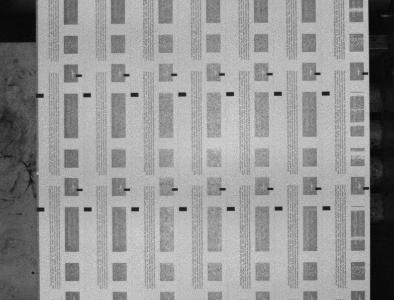qblock: (36, 93, 44, 98), (37, 207, 45, 212), (131, 92, 139, 97), (274, 91, 282, 96), (83, 93, 91, 97), (322, 91, 330, 95), (178, 92, 186, 96), (226, 92, 234, 96), (84, 207, 92, 211), (323, 206, 331, 210), (227, 207, 235, 211), (131, 207, 139, 211), (179, 207, 187, 211), (275, 207, 283, 210)
smallqblock: (219, 73, 226, 76), (171, 73, 178, 76), (315, 187, 322, 190), (267, 187, 274, 190), (363, 187, 370, 190), (76, 74, 82, 77), (124, 73, 130, 76), (267, 72, 273, 75), (315, 72, 321, 75), (77, 188, 83, 191), (124, 188, 130, 191), (363, 72, 369, 75), (220, 187, 226, 190), (172, 188, 178, 191)
